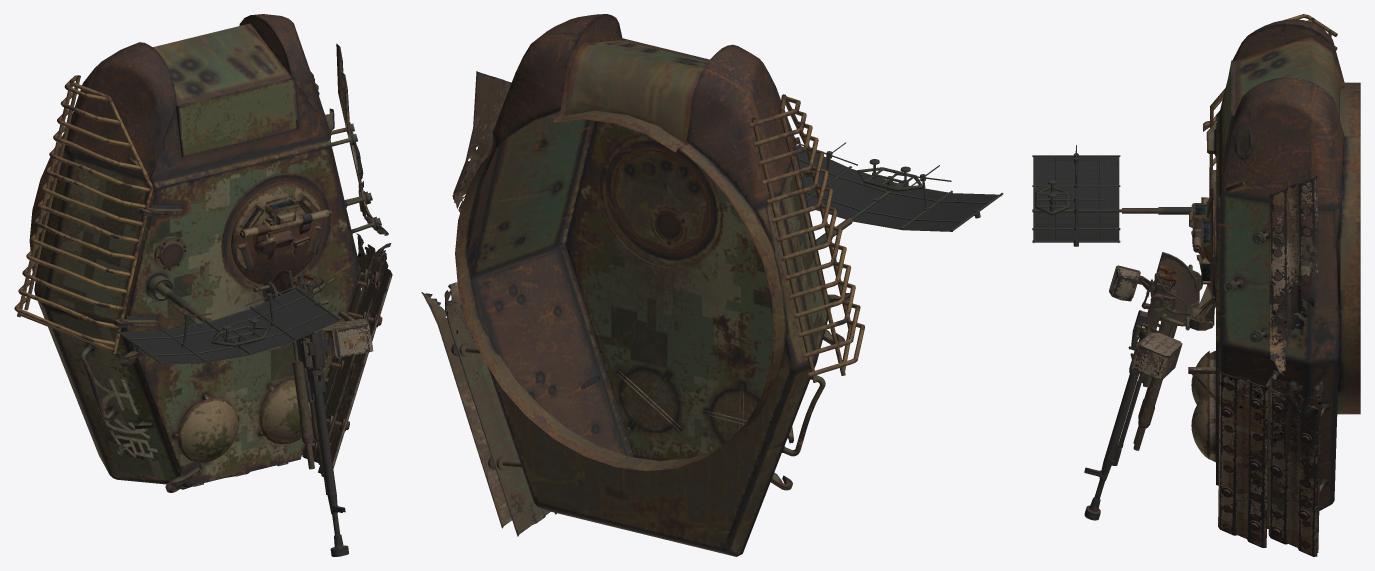
File: Turret_02.glb
The picture shows the model from 3 angles, left to right: view 1: azimuth 30°, elevation 25°; view 2: azimuth 150°, elevation 25°; view 3: azimuth 270°, elevation 25°; orthographic projection. The views are drawn at different scales.
Parts seen in each view (by area): view 1: set_0_group_1, set_0_group_0, set_0_group_2; view 2: set_0_group_1, set_0_group_0, set_0_group_2; view 3: set_0_group_1, set_0_group_0, set_0_group_2, set_0_group_3.
Part boxes in pixels (<box>): set_0_group_1: <box>14,14,376,492</box>; set_0_group_0: <box>253,43,392,556</box>; set_0_group_2: <box>116,285,340,364</box>; set_0_group_1: <box>455,14,864,556</box>; set_0_group_0: <box>421,71,556,536</box>; set_0_group_2: <box>796,142,1003,245</box>; set_0_group_1: <box>1188,14,1360,510</box>; set_0_group_0: <box>1084,175,1323,556</box>; set_0_group_2: <box>1032,145,1191,246</box>; set_0_group_3: <box>1234,126,1254,159</box>.
Bounding box in the file's own units: 2.48 × 2.86 × 1.88.
Materials: 4 (4 with a texture image).
